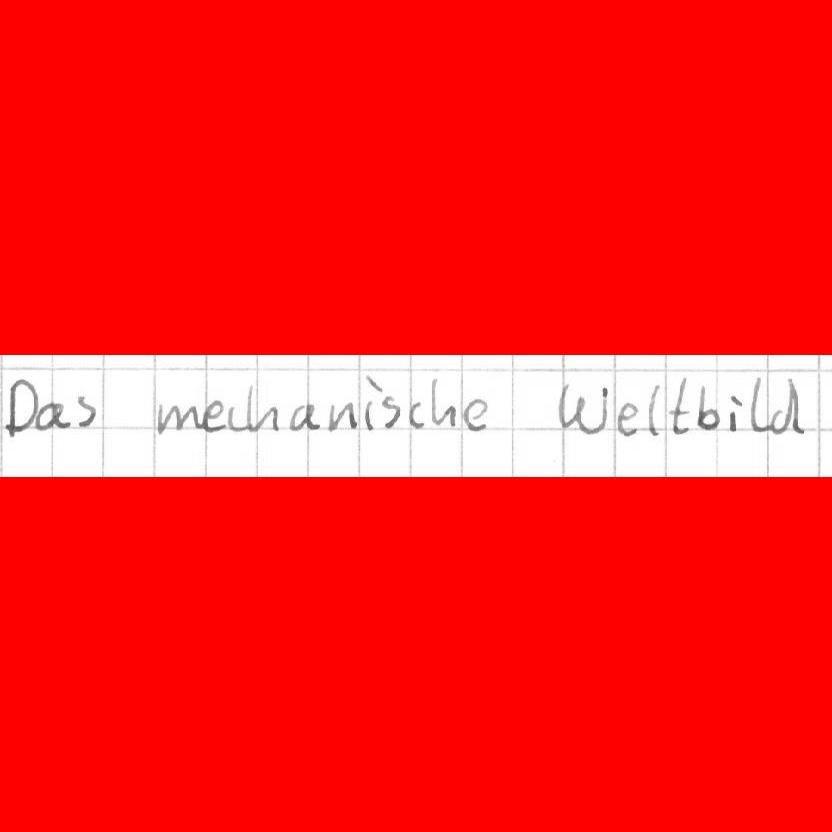Char: (558, 381, 608, 433), (765, 376, 807, 436), (2, 379, 36, 437), (745, 373, 771, 439), (430, 373, 457, 430), (155, 401, 200, 435), (248, 384, 278, 433), (362, 369, 382, 432), (669, 378, 690, 436), (696, 383, 719, 431), (328, 396, 357, 431), (462, 395, 489, 432), (36, 400, 69, 430), (616, 401, 642, 439), (645, 383, 663, 437), (287, 401, 316, 433), (228, 389, 248, 433), (201, 398, 224, 435), (74, 392, 96, 429), (379, 392, 400, 430), (726, 391, 742, 433), (407, 399, 427, 429)
